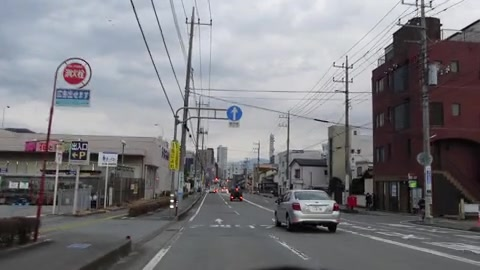traffic_sign: (225, 103, 243, 125)
